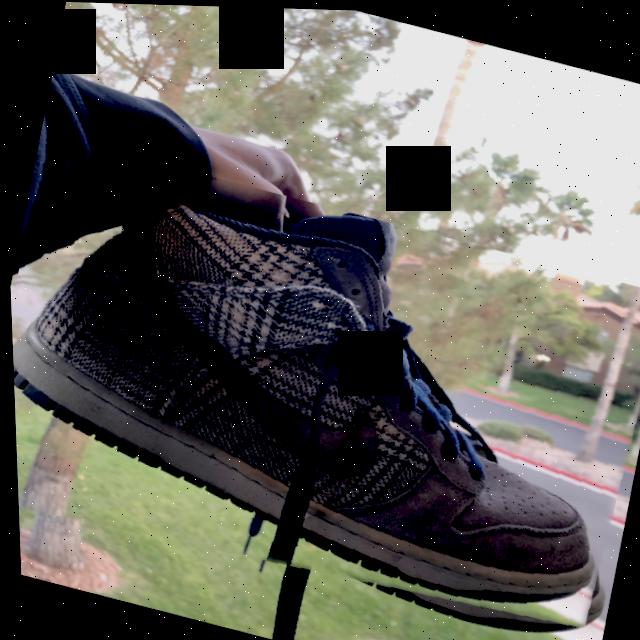shoe: (4, 132, 640, 640)
